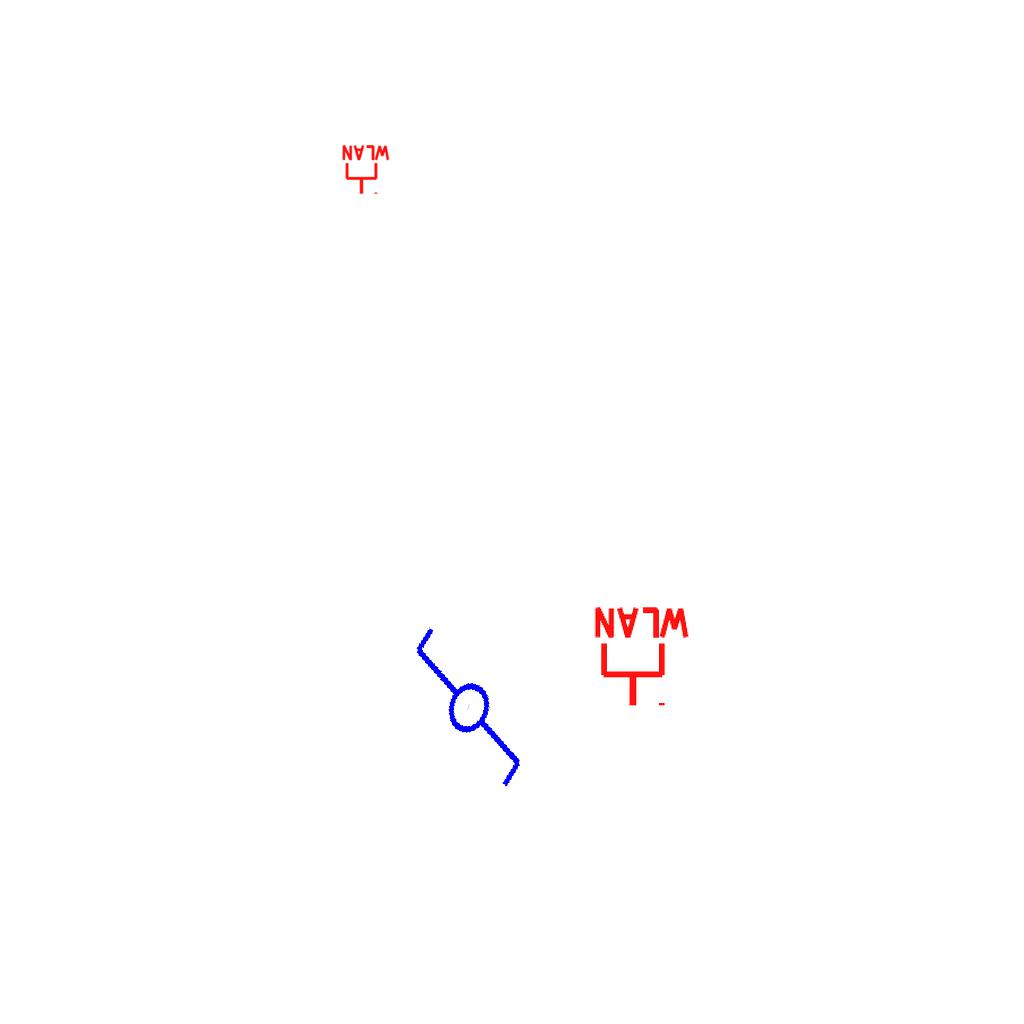WLAN: (590, 605, 694, 710), (340, 144, 392, 196)
Wechselschalter: (373, 619, 556, 811)
